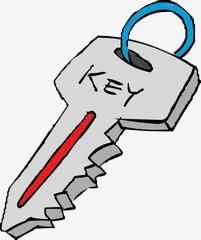key: (1, 32, 201, 239)
